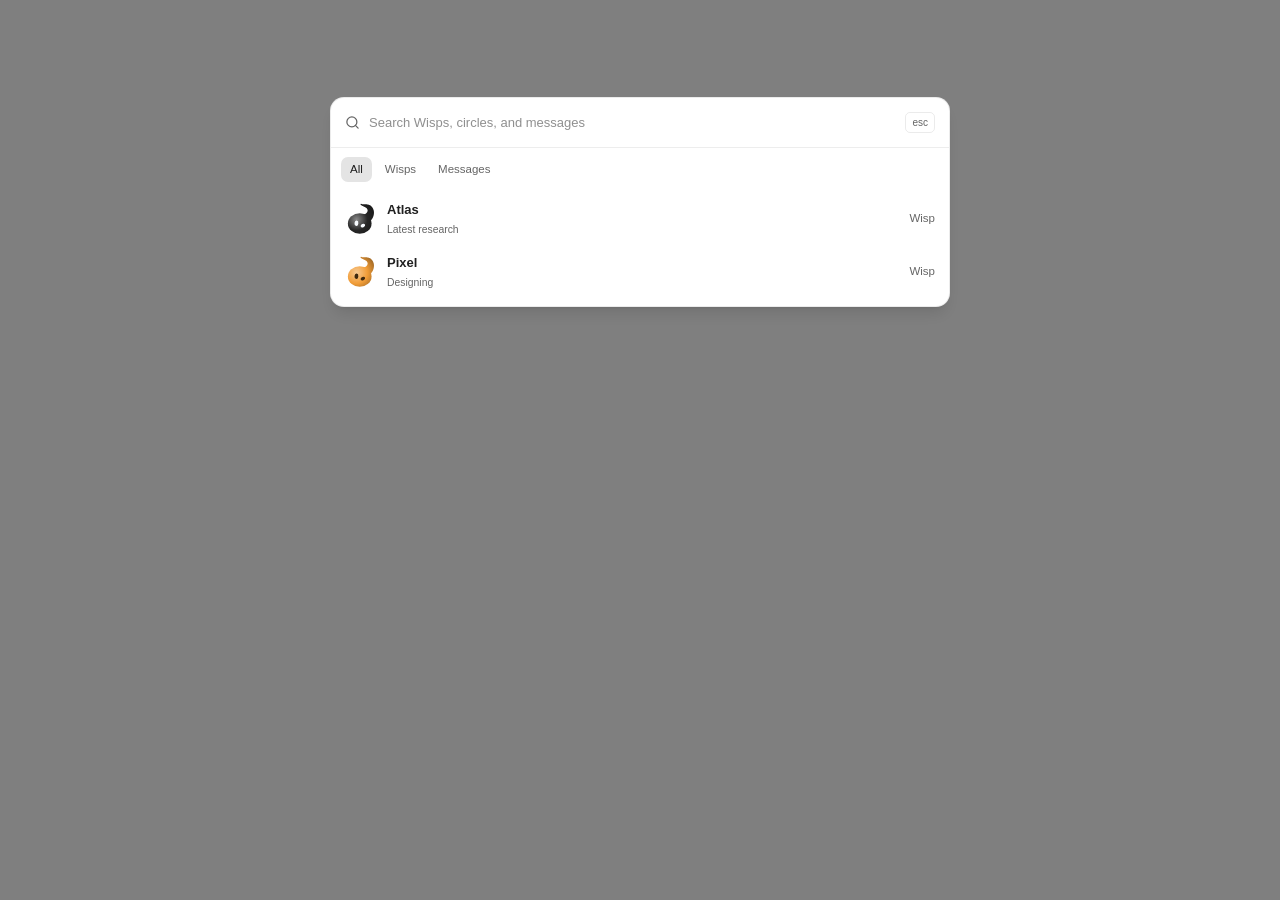
it: SearchDialog › asks for three characters before it searches messages
The width and height of the screenshot is (1280, 900).
Type "at" into the field labelled "Search".
click(633, 123); type("at")  # box [369,113,896,132]
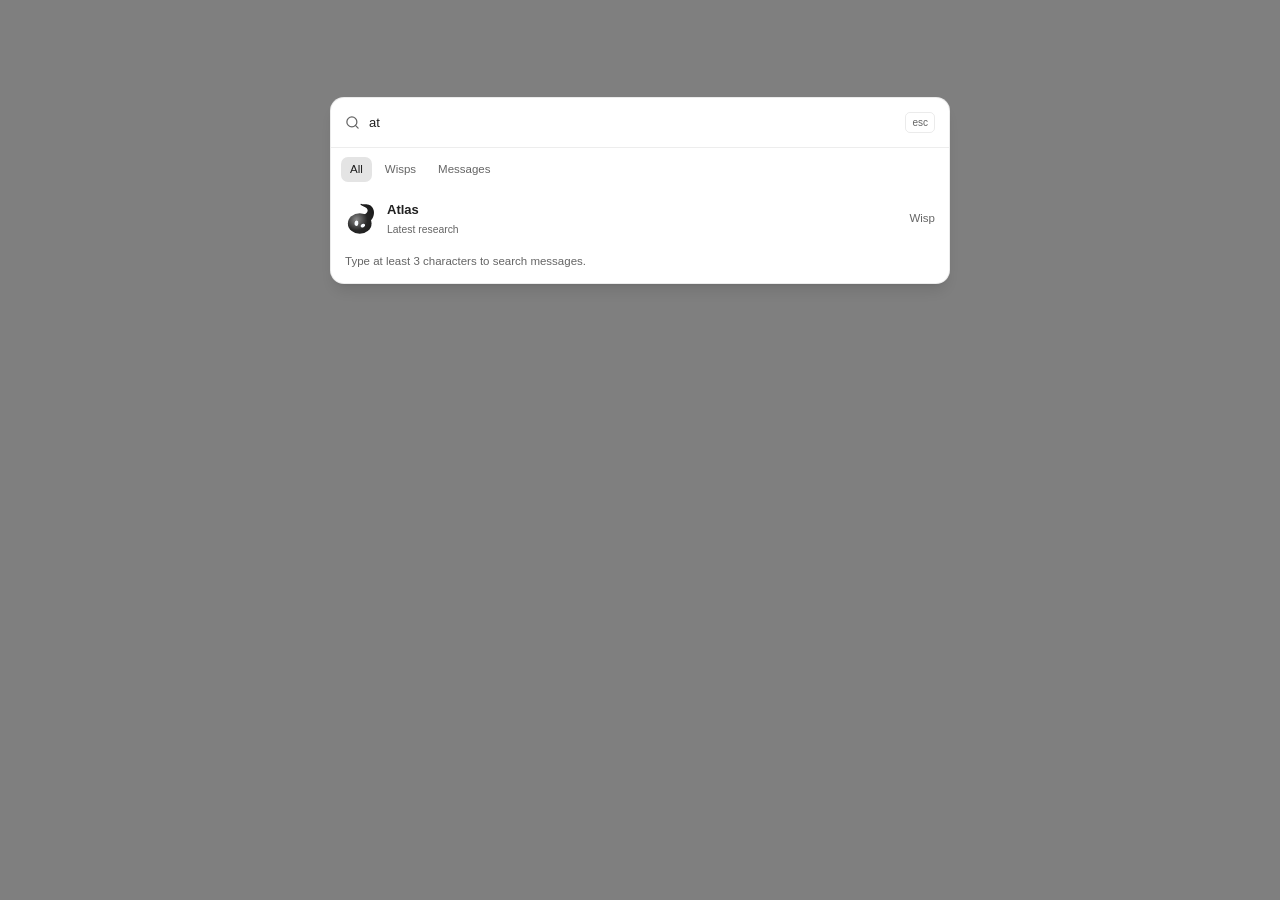
Check: the button "Atlas Latest research Wisp" is shown, box [337,192,943,245]
Check: the text "Type at least 3 characters to search messages." is shown, box [345,255,586,267]
